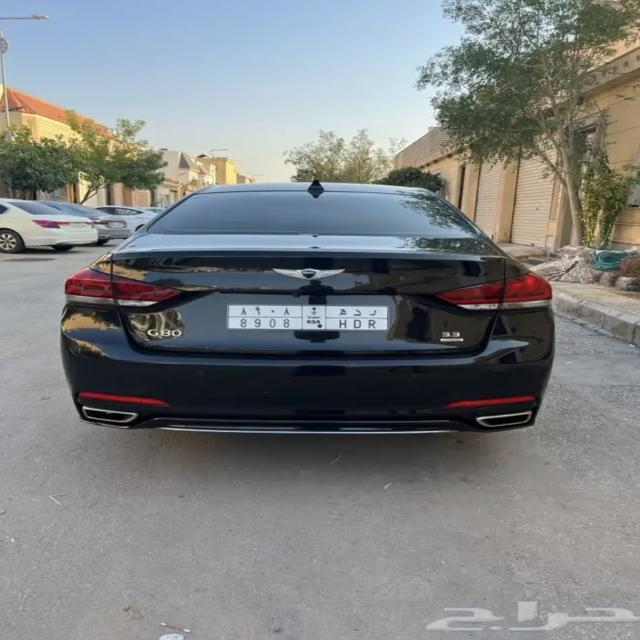license_plate: (227, 303, 390, 333)
